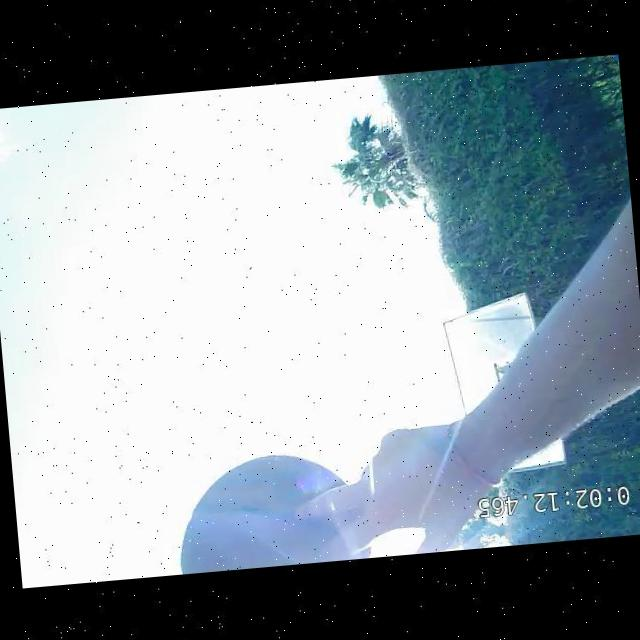ball: (170, 446, 371, 574)
